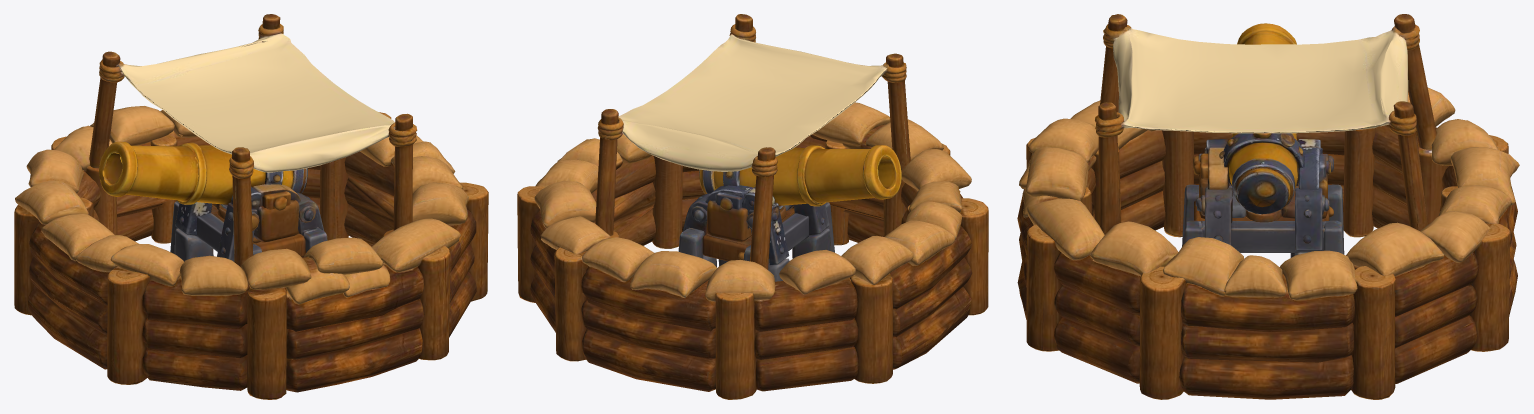
File: battery.glb
3 views of the same model, side by side, from view 1: azimuth 30°, elevation 25°; view 2: azimuth 150°, elevation 25°; view 3: azimuth 270°, elevation 25° (orthographic). The views are drawn at different scales.
Size of the model in its own units: 0.9385 by 0.5132 by 0.96.
Materials: 1 (1 with a texture image).
